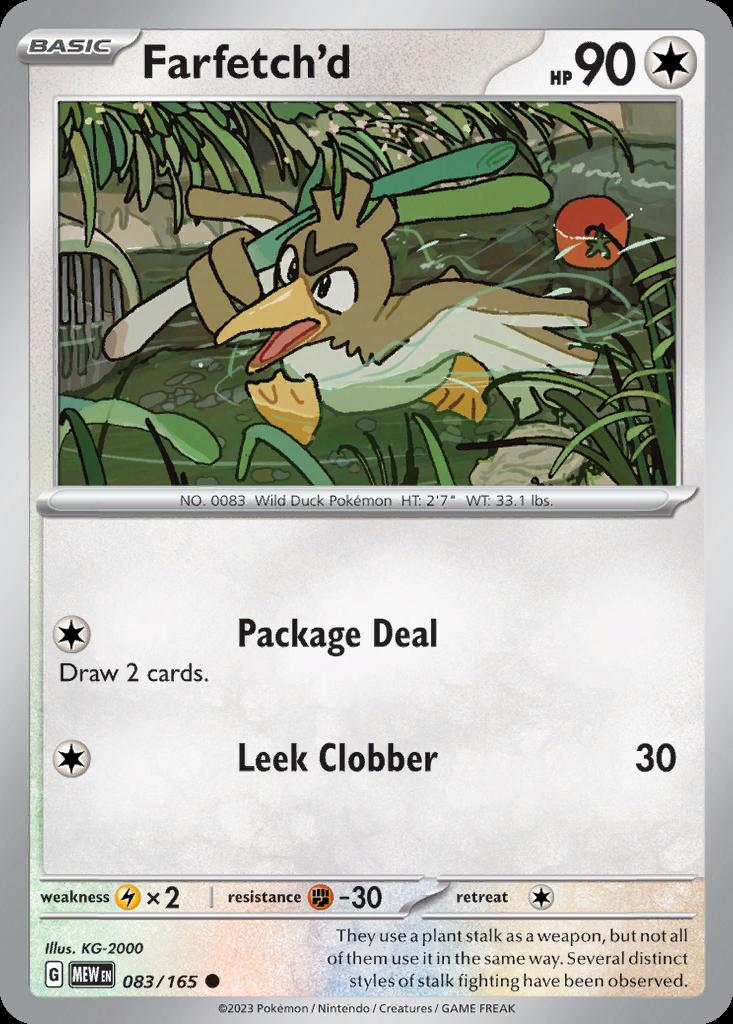card: (0, 3, 733, 1024)
hp: (527, 23, 703, 94)
name: (123, 26, 371, 93)
set num: (121, 967, 231, 996)
set symbol: (39, 959, 117, 996)
